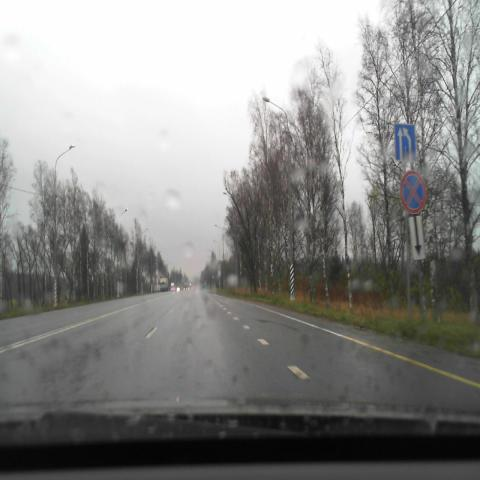8_2_3: (409, 216, 425, 258)
